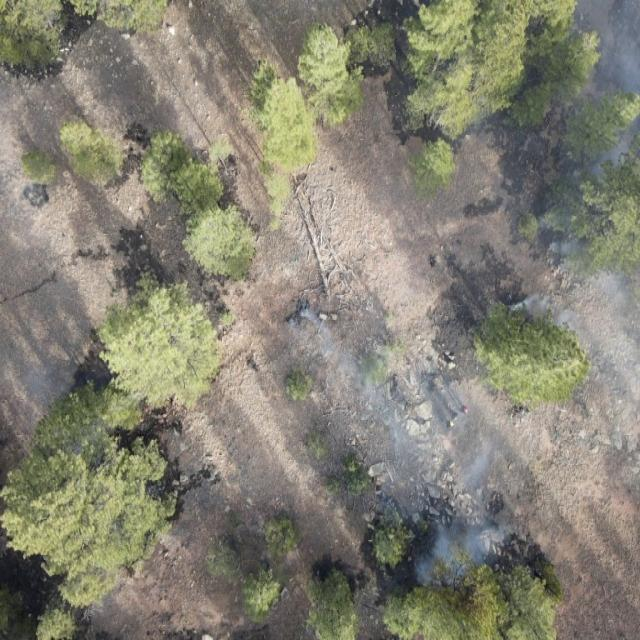smoke: (280, 292, 514, 590), (489, 0, 640, 360)
